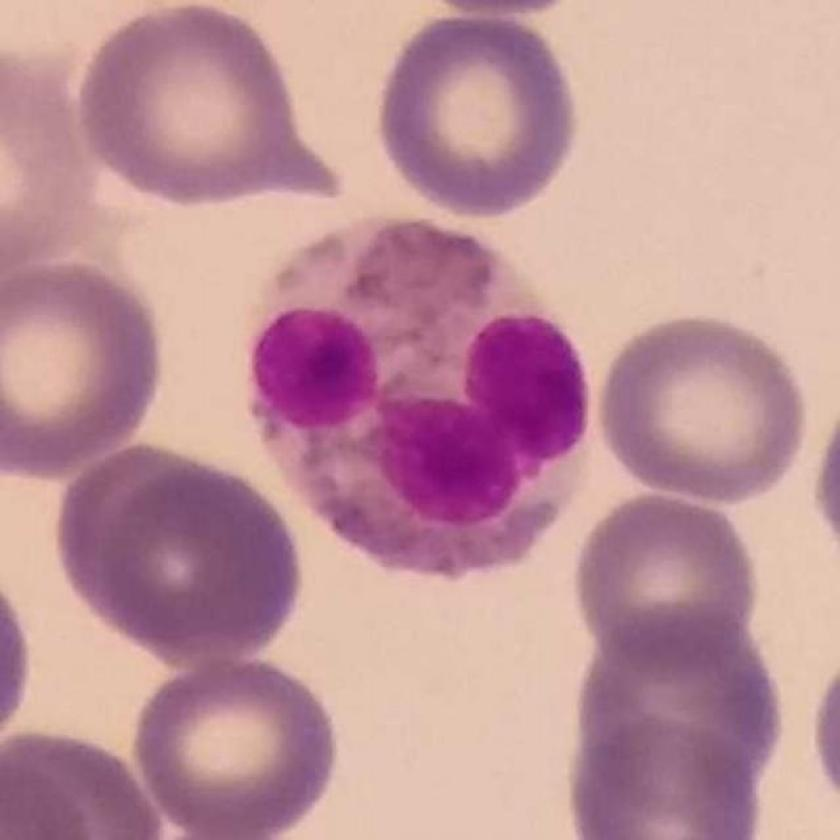eosinophil: (248, 213, 596, 583)
